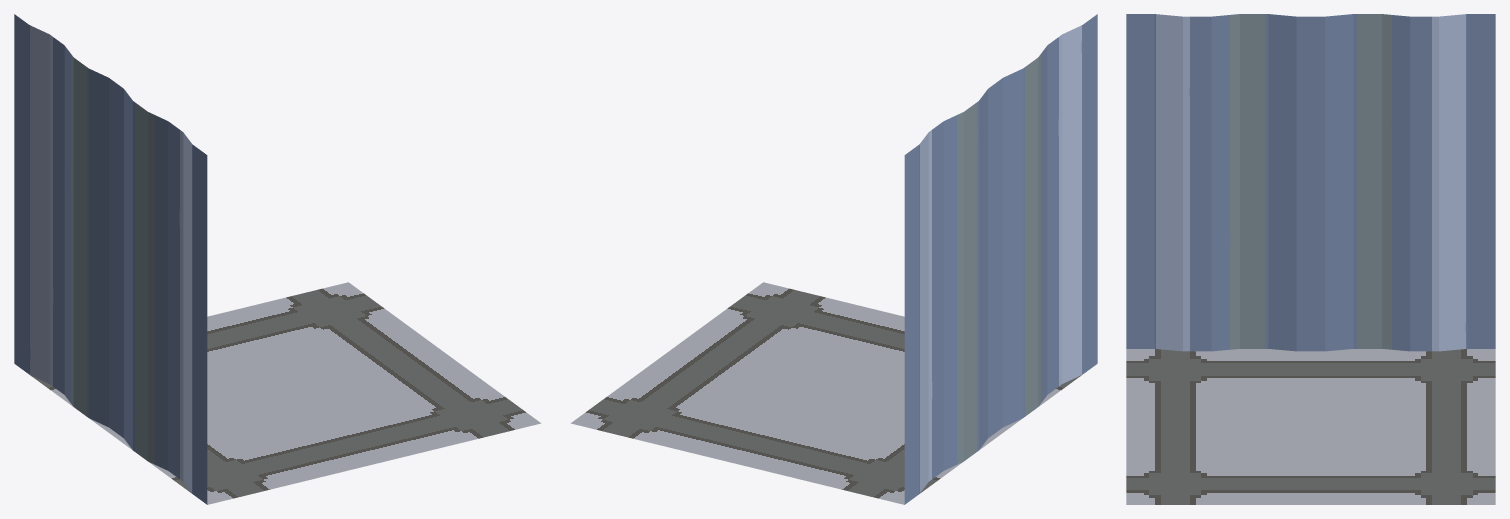
File: Room.fbx
3 views of the same model, side by side, from view 1: azimuth 30°, elevation 25°; view 2: azimuth 150°, elevation 25°; view 3: azimuth 270°, elevation 25° (orthographic). The views are drawn at different scales.
Visible parts, largest first — view 1: Wall, Floor; view 2: Wall, Floor; view 3: Wall, Floor.
Boxes of the visible parts, x1=… form: Wall: x1=14, y1=14, x2=207, y2=504; Floor: x1=30, y1=282, x2=541, y2=504; Wall: x1=904, y1=14, x2=1097, y2=504; Floor: x1=570, y1=282, x2=1081, y2=504; Wall: x1=1126, y1=14, x2=1495, y2=351; Floor: x1=1126, y1=349, x2=1495, y2=504.
Bounding box in the file's own units: 3000 × 3000 × 3000.
